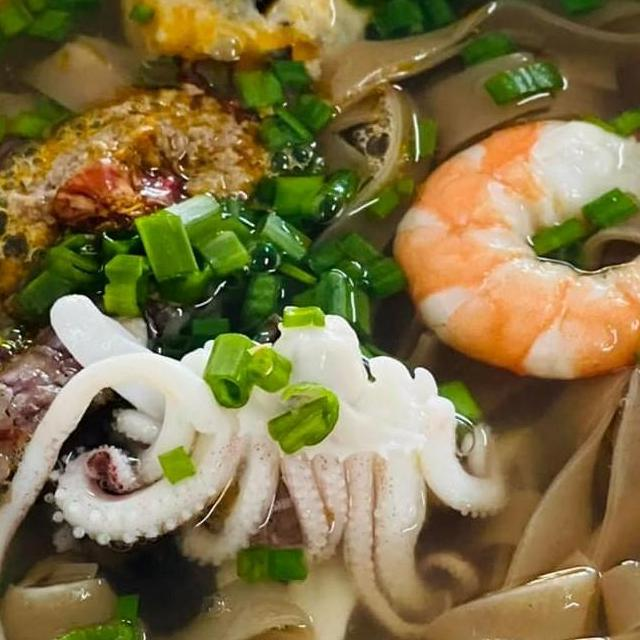bun hai san: (0, 0, 640, 640)
muc: (0, 286, 512, 640)
tom: (377, 59, 640, 389)
vien moc: (106, 0, 381, 113)
